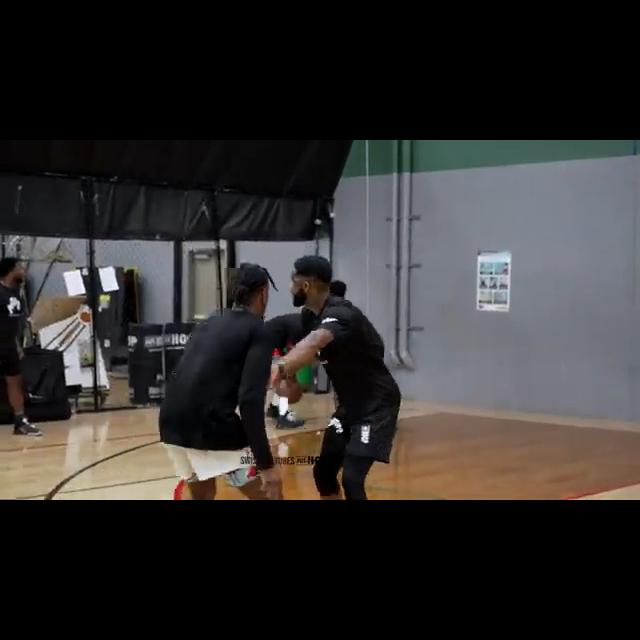person: (157, 251, 294, 500), (290, 255, 404, 500), (325, 279, 399, 420), (0, 258, 45, 438), (261, 285, 315, 429)
